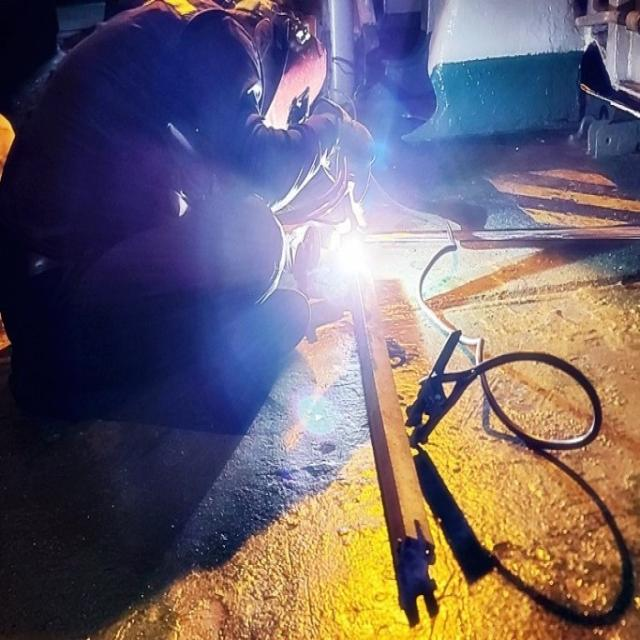welding: (340, 235, 372, 275)
